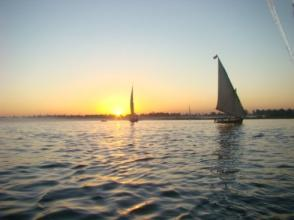fanchuan: (203, 53, 252, 129), (123, 81, 148, 126)
